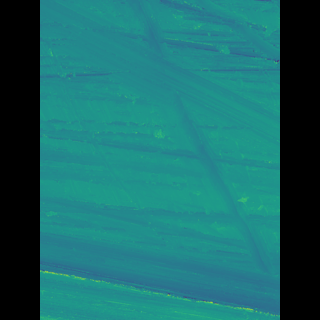Loch: (70, 0, 248, 319)
